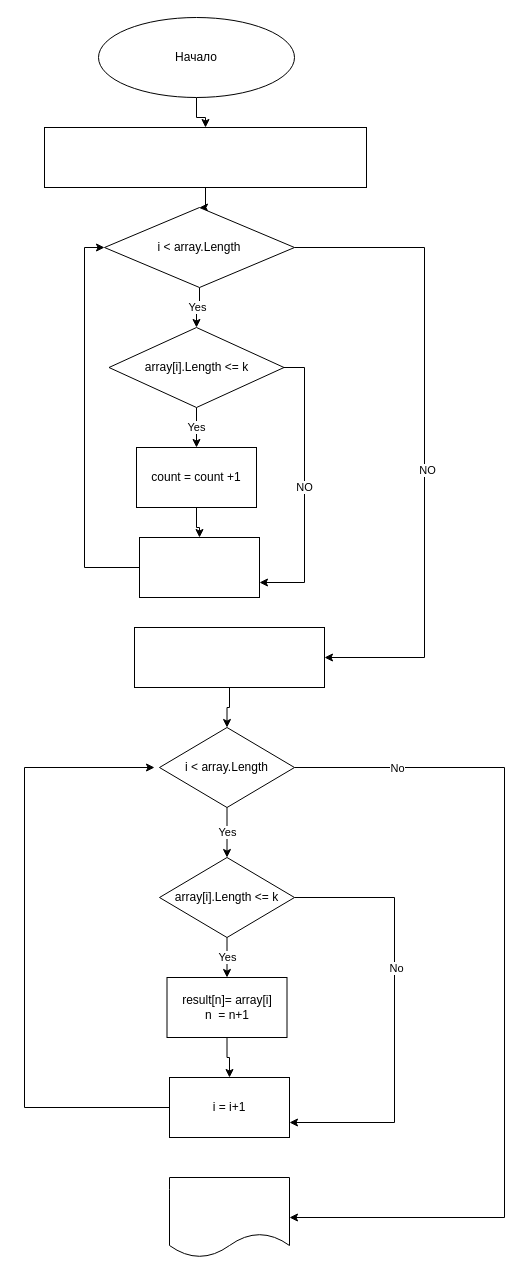
This 530x1275 diagram has some shape labels left out. The shapes that lost their labels are listed below. From the top down, each one's centre as x and y in pixels, then its label:
(205,157): array = [ "Hello" , "2" , "world" , ":-)" ] count = 0 i = 0 k =3
(199,567): i = i +1
(229,657): result = new string[count] n = 0 i = 0
(229,1217): result
